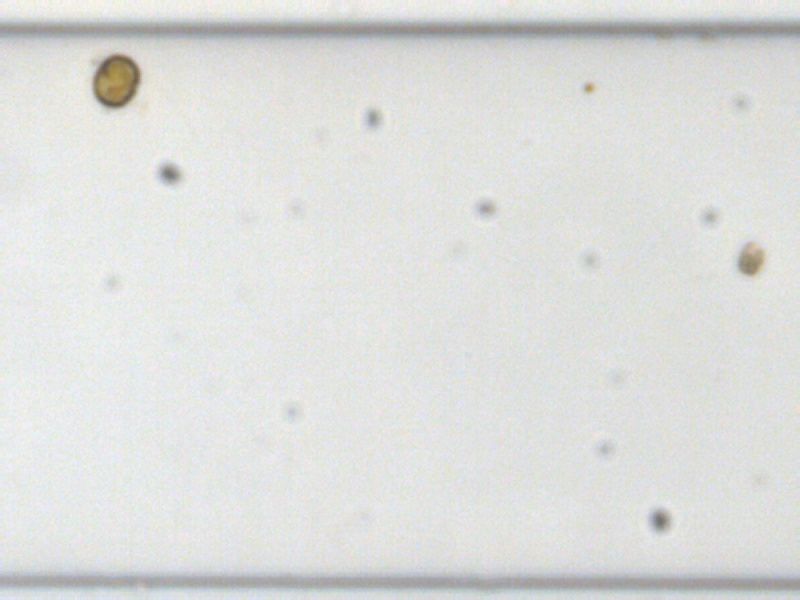Chlorella: (582, 80, 594, 92)
Dunaliella salina: (734, 237, 764, 277)
Effrenium: (89, 51, 142, 109)
